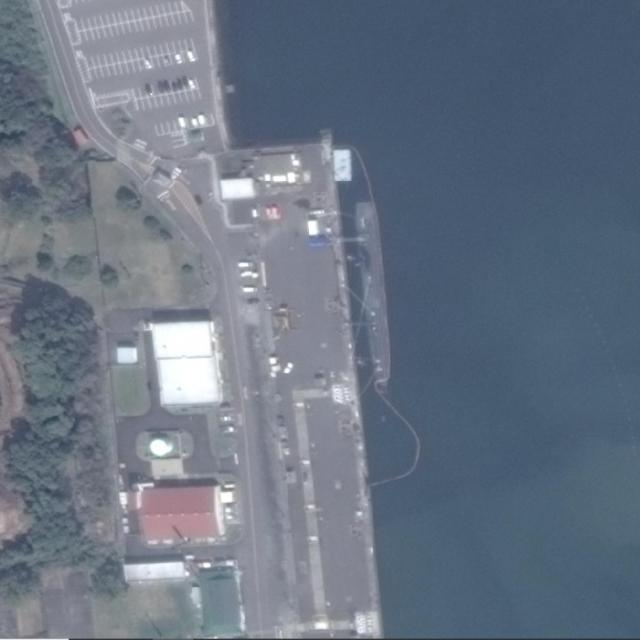Submarine: (354, 199, 394, 386)
